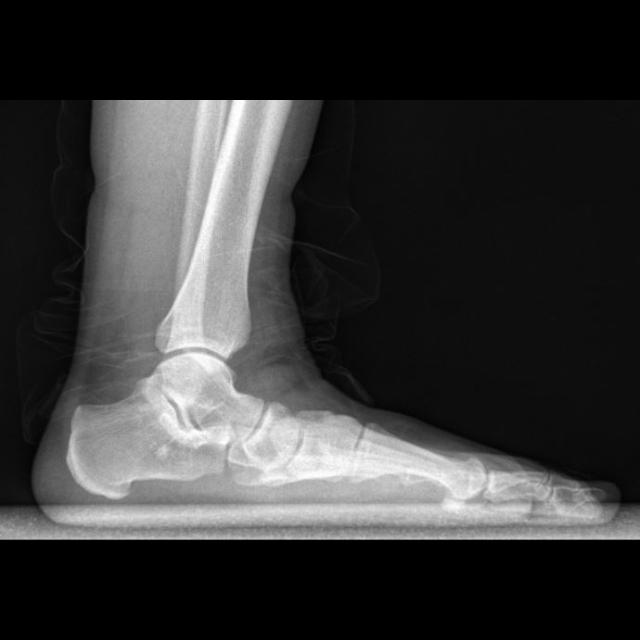a: (66, 388, 225, 498)
b: (240, 402, 300, 468)
c: (348, 422, 489, 516)
